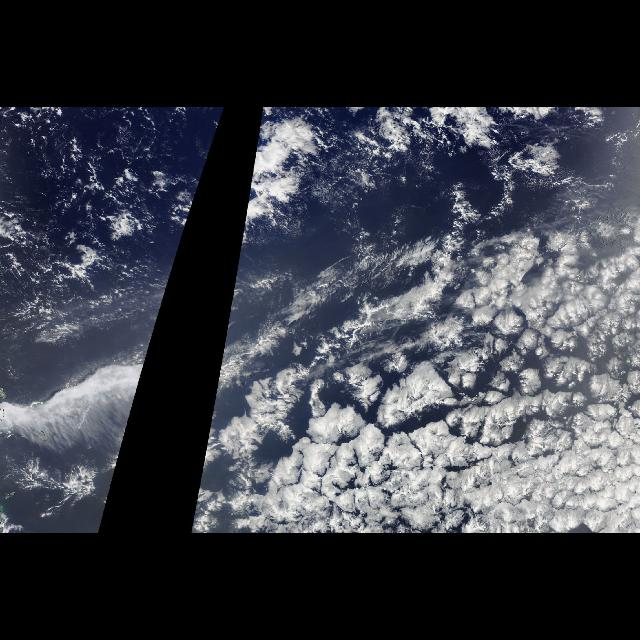Flower: (292, 268, 628, 530)
